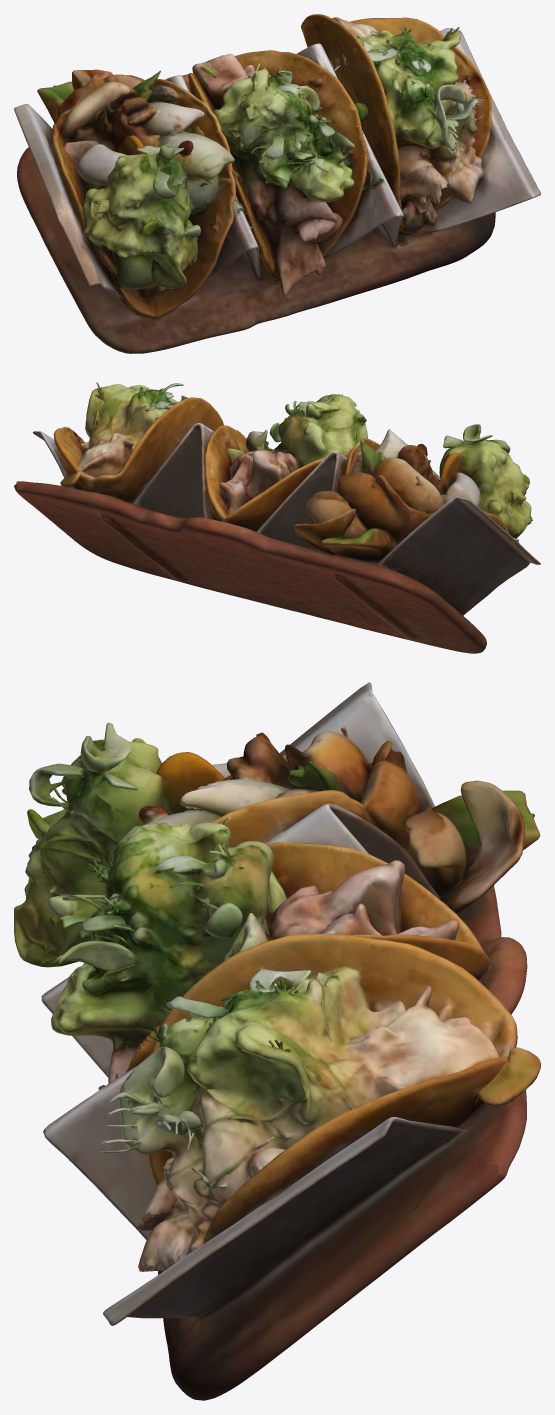
File: taco.glb
The picture shows the model from 3 angles, top to bottom: view 1: azimuth 30°, elevation 25°; view 2: azimuth 150°, elevation 25°; view 3: azimuth 270°, elevation 25°; orthographic projection. The views are drawn at different scales.
Parts seen in each view (by area): view 1: tripo_node_39daafea-b54d-41c7-aa60-e7f3c16fc329; view 2: tripo_node_39daafea-b54d-41c7-aa60-e7f3c16fc329; view 3: tripo_node_39daafea-b54d-41c7-aa60-e7f3c16fc329.
Part boxes in pixels (x1,y1,x2,y2): tripo_node_39daafea-b54d-41c7-aa60-e7f3c16fc329: (14,14,540,353); tripo_node_39daafea-b54d-41c7-aa60-e7f3c16fc329: (14,382,540,653); tripo_node_39daafea-b54d-41c7-aa60-e7f3c16fc329: (14,682,540,1400).
Bounding box in the file's own units: 0.9786 × 0.4962 × 0.5539.
1 material, 1 textured.
